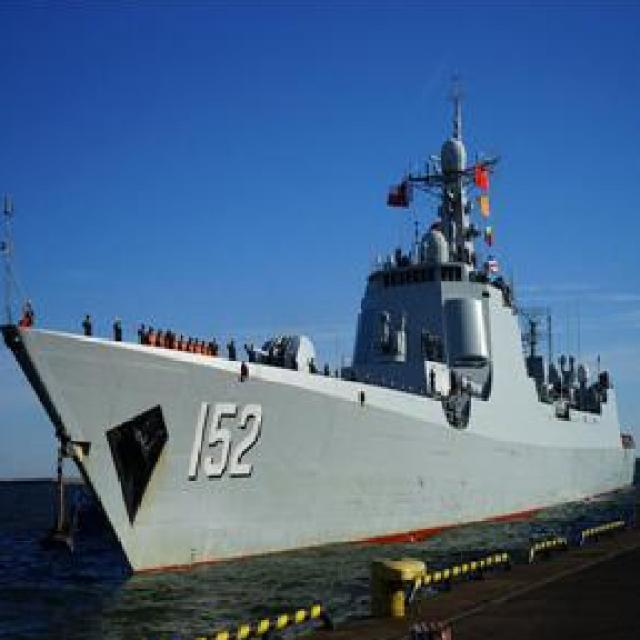navalvessels: (0, 89, 636, 571)
